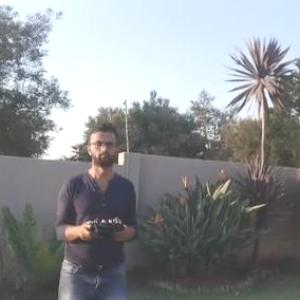follow: (47, 117, 142, 299)
